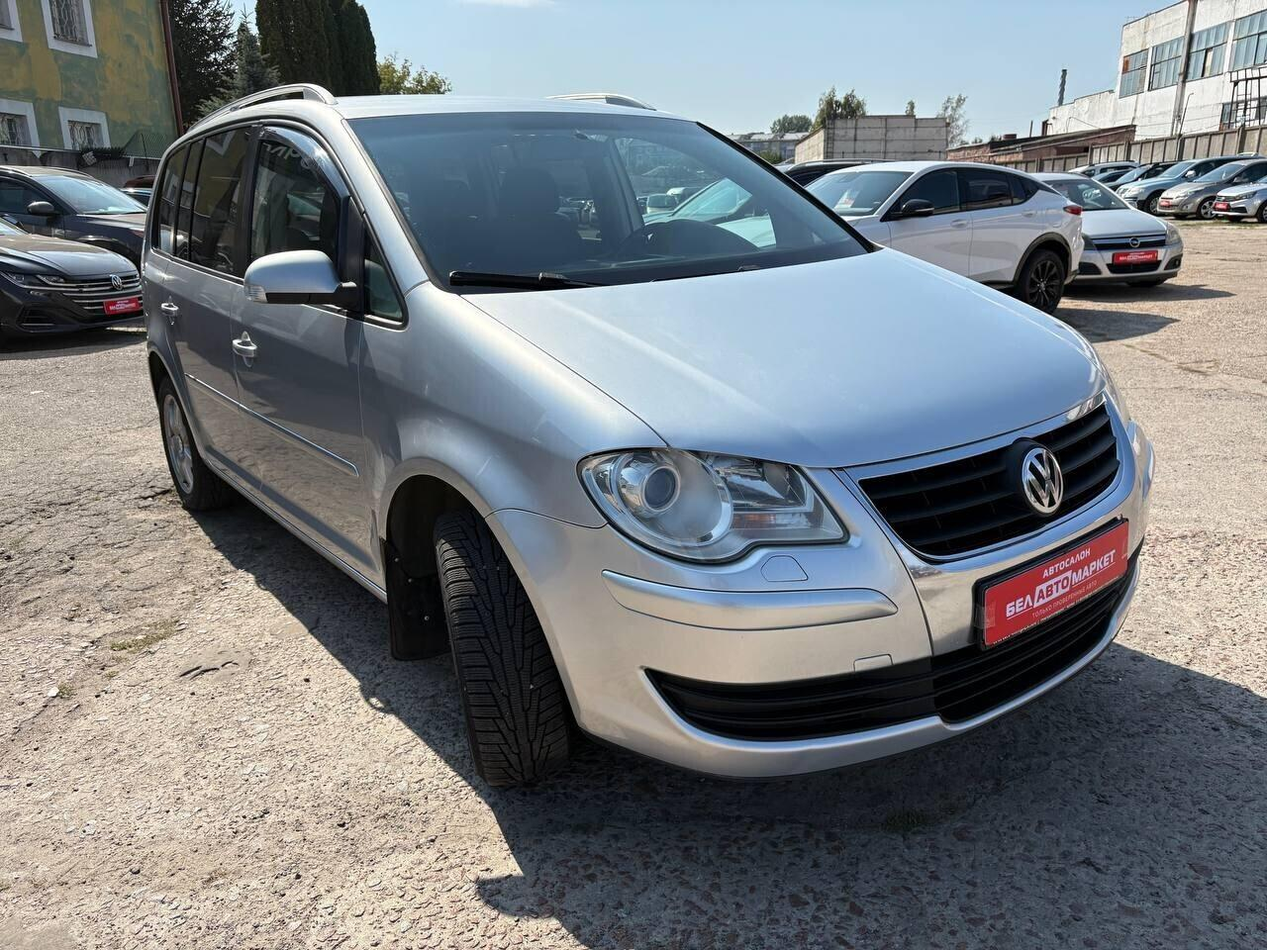Touran_2006-2010: (136, 94, 1156, 793)
